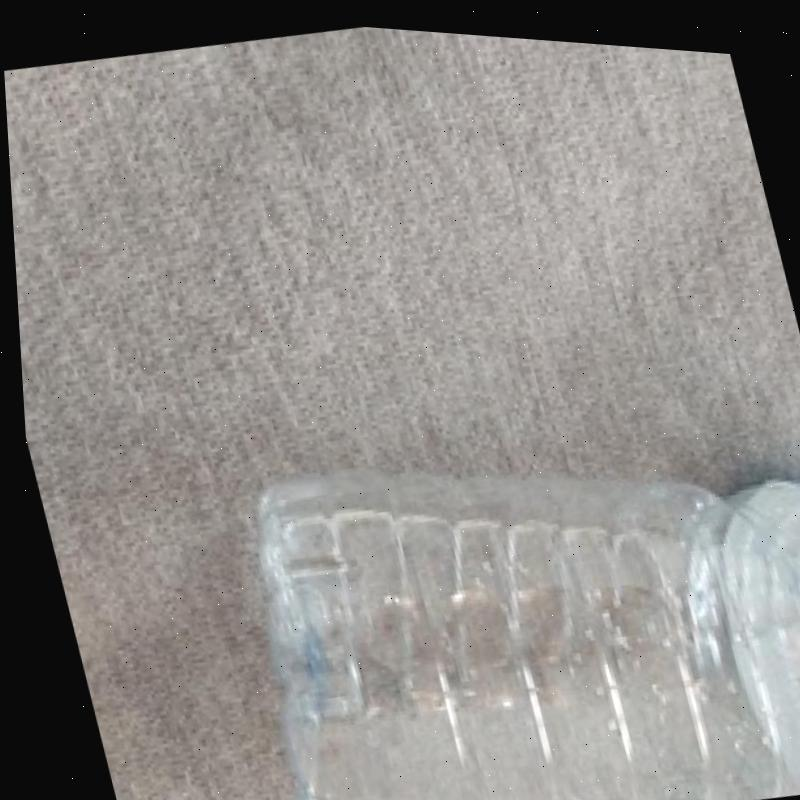botella: (208, 371, 800, 800)
